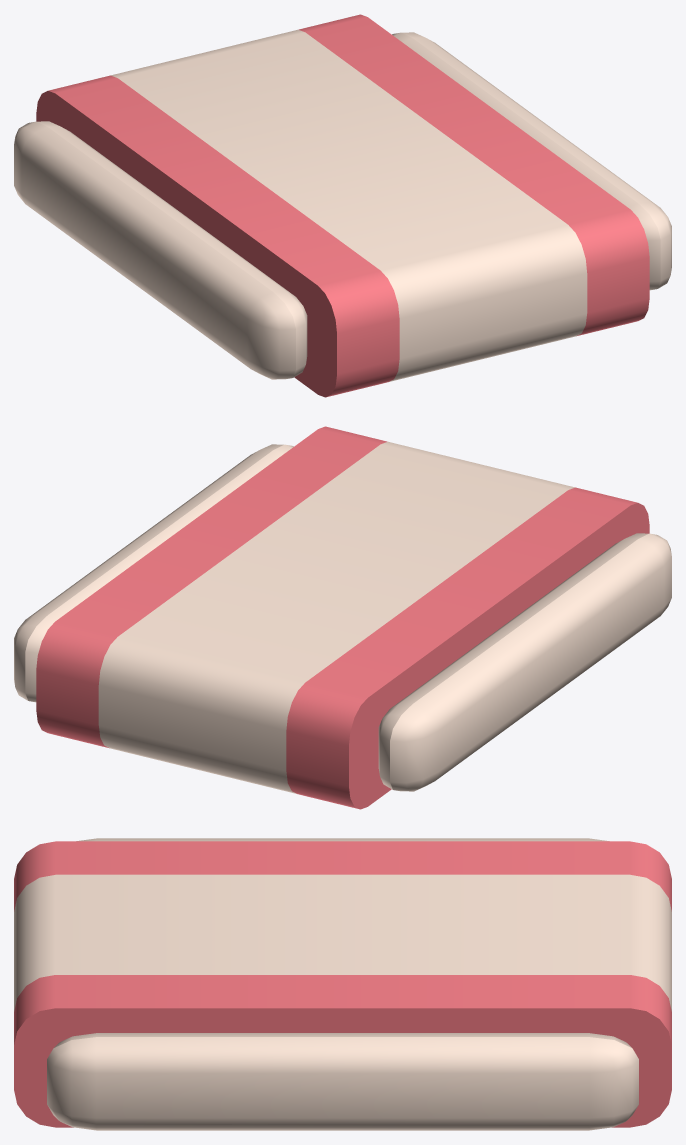
Rendered from Props_Conveyor_Pink_03.fbx.
3 views of the same model, one above another, from view 1: azimuth 30°, elevation 25°; view 2: azimuth 150°, elevation 25°; view 3: azimuth 270°, elevation 25° (orthographic). The views are drawn at different scales.
Visible parts, largest first — view 1: Props_Conveyor_Pink_03; view 2: Props_Conveyor_Pink_03; view 3: Props_Conveyor_Pink_03.
Boxes of the visible parts, box(x1,y1,x2,y2) form: Props_Conveyor_Pink_03: box(14, 14, 671, 397); Props_Conveyor_Pink_03: box(14, 426, 671, 809); Props_Conveyor_Pink_03: box(14, 838, 671, 1130).
Size of the model in its own units: 80 by 20 by 100.
